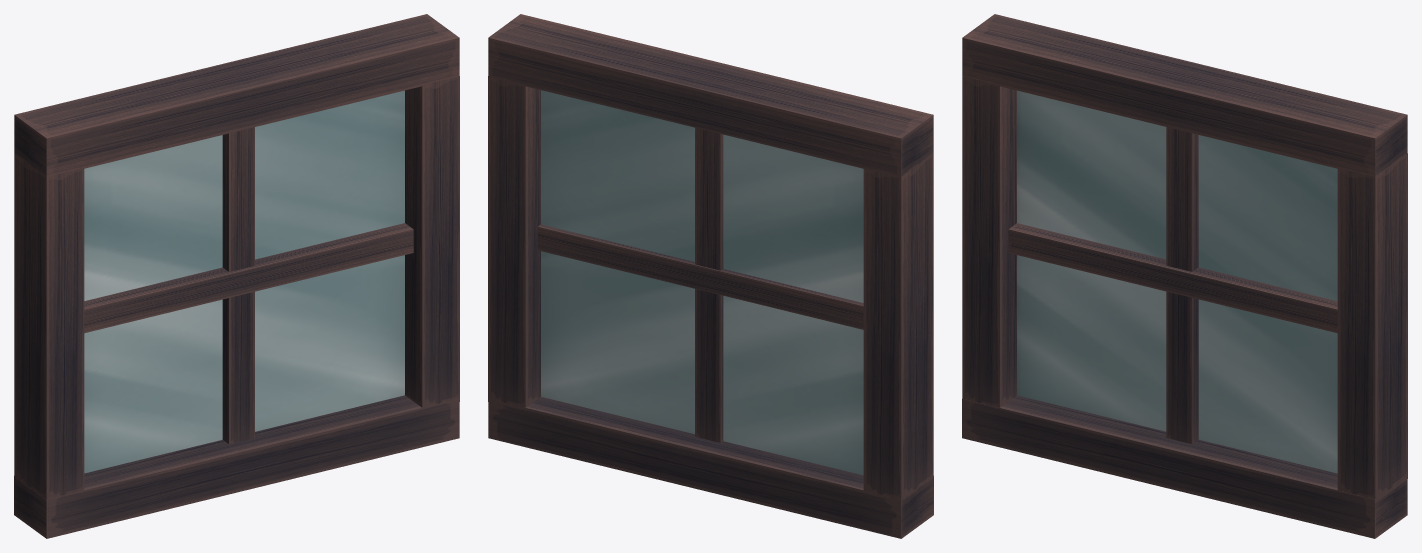
File: Window_B.fbx
The picture shows the model from 3 angles, left to right: view 1: azimuth 30°, elevation 25°; view 2: azimuth 150°, elevation 25°; view 3: azimuth 330°, elevation 25°; orthographic projection.
Visible parts, largest first — view 1: Window_B; view 2: Window_B; view 3: Window_B.
Boxes of the visible parts, x1,y1,x2,y2 form: Window_B: (14, 14, 459, 538); Window_B: (488, 14, 933, 538); Window_B: (962, 14, 1407, 538).
Bounding box in the file's own units: 0.1382 × 0.128 × 0.0189.
